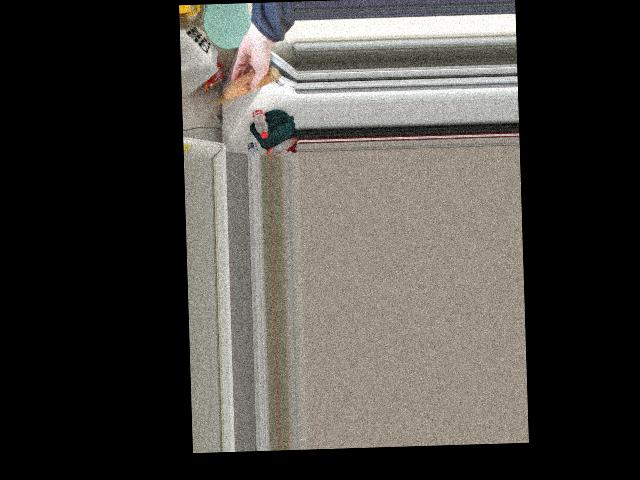sweet_potato: (229, 67, 276, 101)
